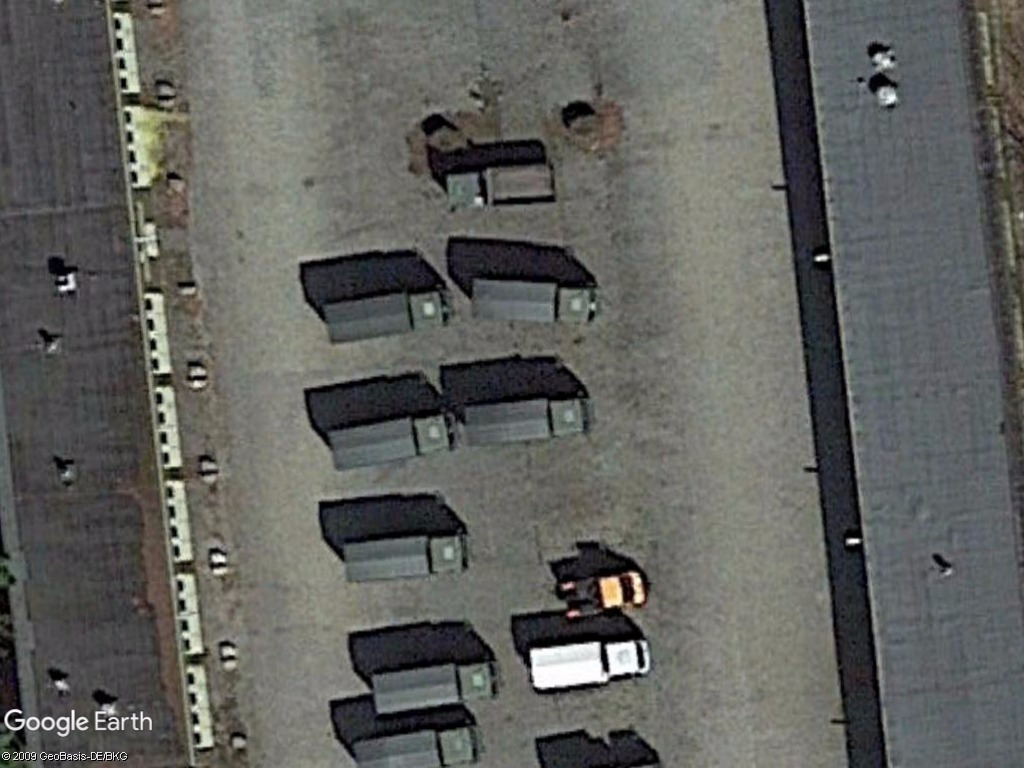other: (440, 157, 564, 215)
truck: (316, 282, 452, 355), (328, 402, 464, 475), (366, 652, 502, 720), (462, 271, 606, 334), (519, 633, 654, 698), (337, 528, 474, 589), (457, 395, 596, 453), (351, 721, 489, 768)
